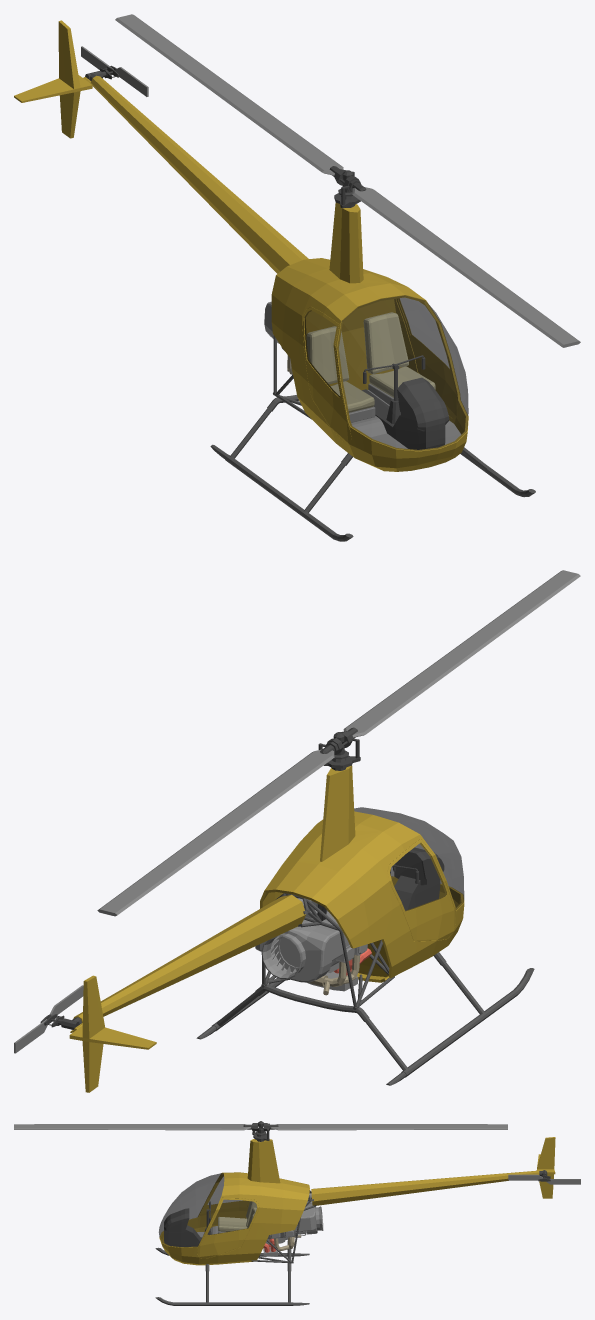
3 views of the same model, one above another, from view 1: azimuth 30°, elevation 25°; view 2: azimuth 150°, elevation 25°; view 3: azimuth 270°, elevation 25° (orthographic). The views are drawn at different scales.
Parts seen in each view (by area): view 1: Body_Body_0, Window_Window_0, Main Rotor_Main Rotor_0, Cockpit_Interior 3_0, Cockpit_Interior 2_0, Frame_Frame_0, Cockpit_Interior_0, Body_Body 2_0; view 2: Body_Body_0, Main Rotor_Main Rotor_0, Frame_Frame_0, Window_Window_0, Engine_Engine_0, Cockpit_Interior 2_0, Body_Body 2_0, Engine_Engine 3_0; view 3: Body_Body_0, Window_Window_0, Main Rotor_Main Rotor_0, Frame_Frame_0, Cockpit_Interior 2_0, Engine_Engine_0, Cockpit_Interior 3_0, Body_Body 2_0.
Part boxes in pixels (left/top/right/bottom): Body_Body_0: left=14, top=20, right=468, bottom=471; Window_Window_0: left=304, top=295, right=468, bottom=450; Main Rotor_Main Rotor_0: left=81, top=14, right=580, bottom=347; Cockpit_Interior 3_0: left=306, top=312, right=435, bottom=412; Cockpit_Interior 2_0: left=362, top=355, right=449, bottom=449; Frame_Frame_0: left=210, top=335, right=535, bottom=541; Cockpit_Interior_0: left=349, top=383, right=460, bottom=448; Body_Body 2_0: left=85, top=65, right=366, bottom=208; Body_Body_0: left=69, top=765, right=464, bottom=1092; Main Rotor_Main Rotor_0: left=14, top=570, right=580, bottom=1053; Frame_Frame_0: left=196, top=893, right=534, bottom=1085; Window_Window_0: left=354, top=807, right=464, bottom=910; Engine_Engine_0: left=255, top=897, right=367, bottom=991; Cockpit_Interior 2_0: left=390, top=847, right=444, bottom=910; Body_Body 2_0: left=40, top=727, right=360, bottom=1029; Engine_Engine 3_0: left=308, top=955, right=360, bottom=995; Body_Body_0: left=159, top=1137, right=555, bottom=1265; Window_Window_0: left=159, top=1173, right=256, bottom=1247; Main Rotor_Main Rotor_0: left=14, top=1124, right=580, bottom=1184; Frame_Frame_0: left=155, top=1190, right=316, bottom=1305; Cockpit_Interior 2_0: left=164, top=1201, right=211, bottom=1246; Engine_Engine_0: left=263, top=1193, right=323, bottom=1256; Cockpit_Interior 3_0: left=218, top=1201, right=256, bottom=1231; Body_Body 2_0: left=243, top=1121, right=550, bottom=1181.
Size of the model in its own units: 1.87 by 2.73 by 8.8.
Materials: 12 (1 with a texture image).
